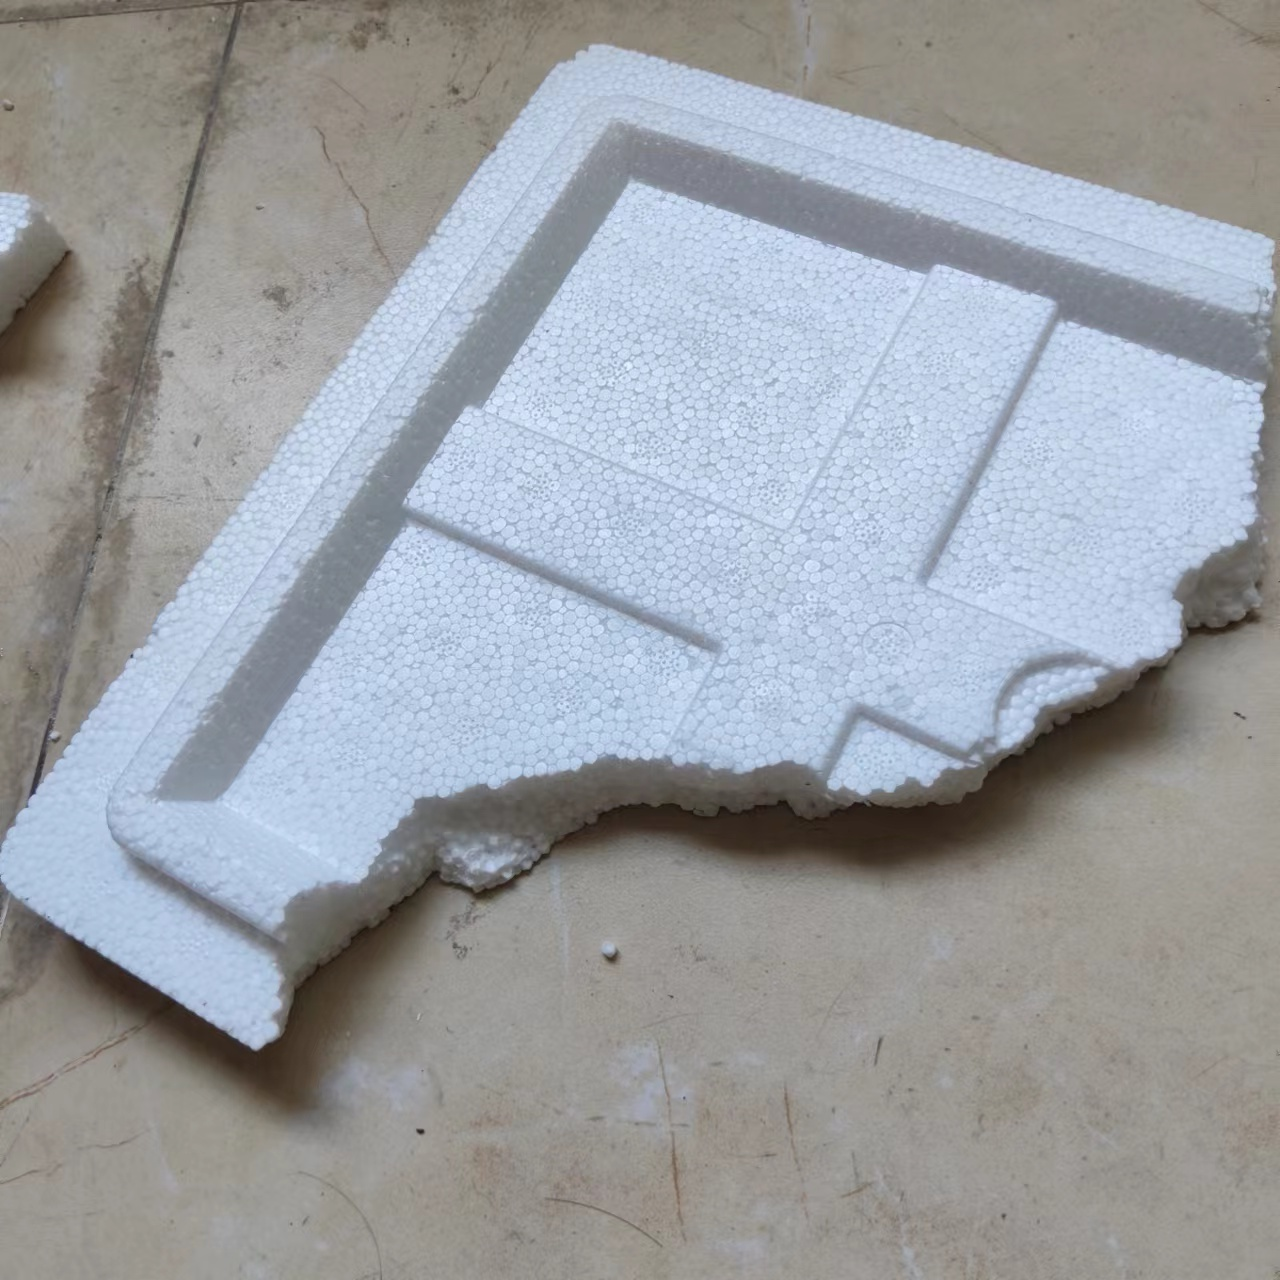5/可回收垃圾/泡沫: (1, 45, 1275, 1056), (1, 192, 67, 332)
